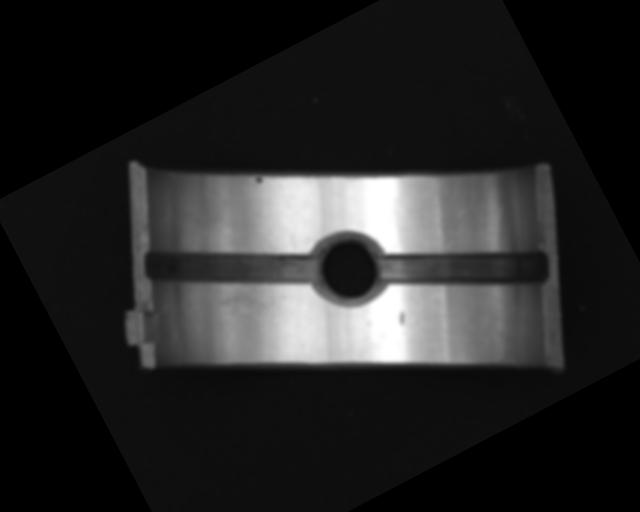blot: (251, 173, 265, 186)
bruise: (395, 309, 410, 326)
gap: (375, 191, 556, 348), (142, 190, 322, 347)
hole: (301, 222, 397, 321)
scratch: (196, 258, 284, 346)
